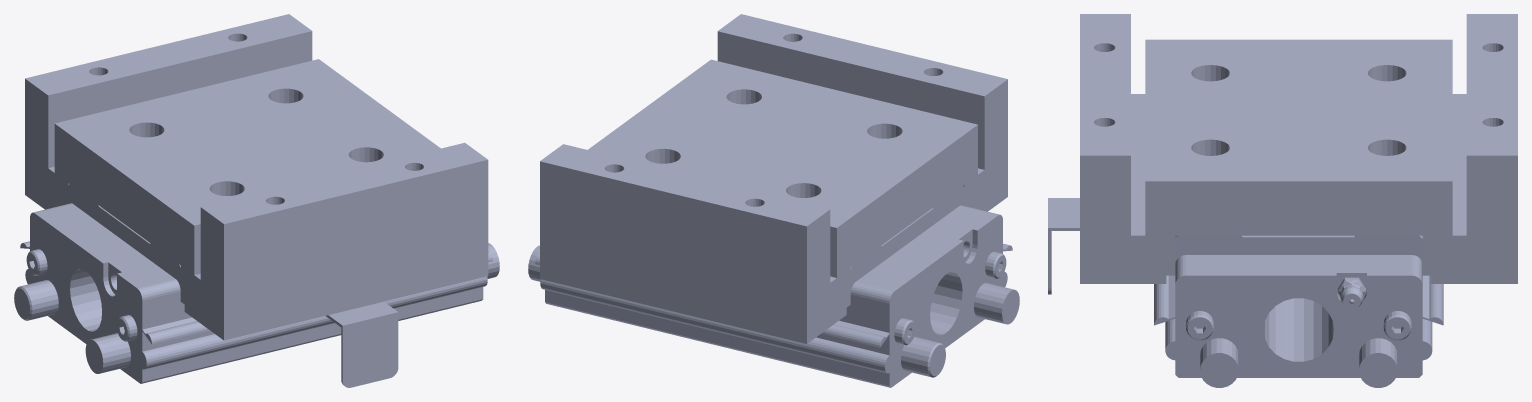
The model's file is kk100_car.glb.
The picture shows the model from 3 angles, left to right: view 1: azimuth 30°, elevation 25°; view 2: azimuth 150°, elevation 25°; view 3: azimuth 270°, elevation 25°; orthographic projection. The views are drawn at different scales.
Parts seen in each view (by area): view 1: world; view 2: world; view 3: world.
Part boxes in pixels (x1,y1,x2,y2): world: (14, 14, 499, 387); world: (528, 14, 1019, 387); world: (1048, 14, 1517, 387).
Bounding box in the file's own units: 143 × 63 × 133.
